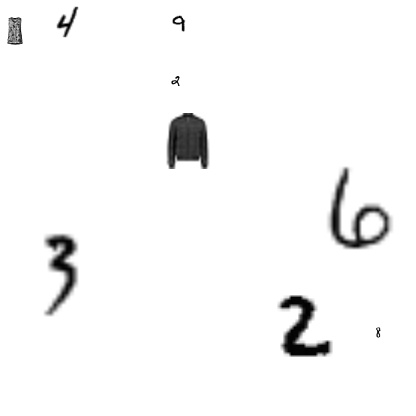2: (257, 287, 341, 371), (169, 74, 183, 88)
3: (5, 207, 117, 319)
4: (45, 1, 87, 43)
6: (296, 160, 408, 272)
8: (371, 325, 385, 339)
9: (168, 11, 190, 33)
Coat: (159, 113, 215, 169)
T-shirt/top: (1, 17, 29, 45)
